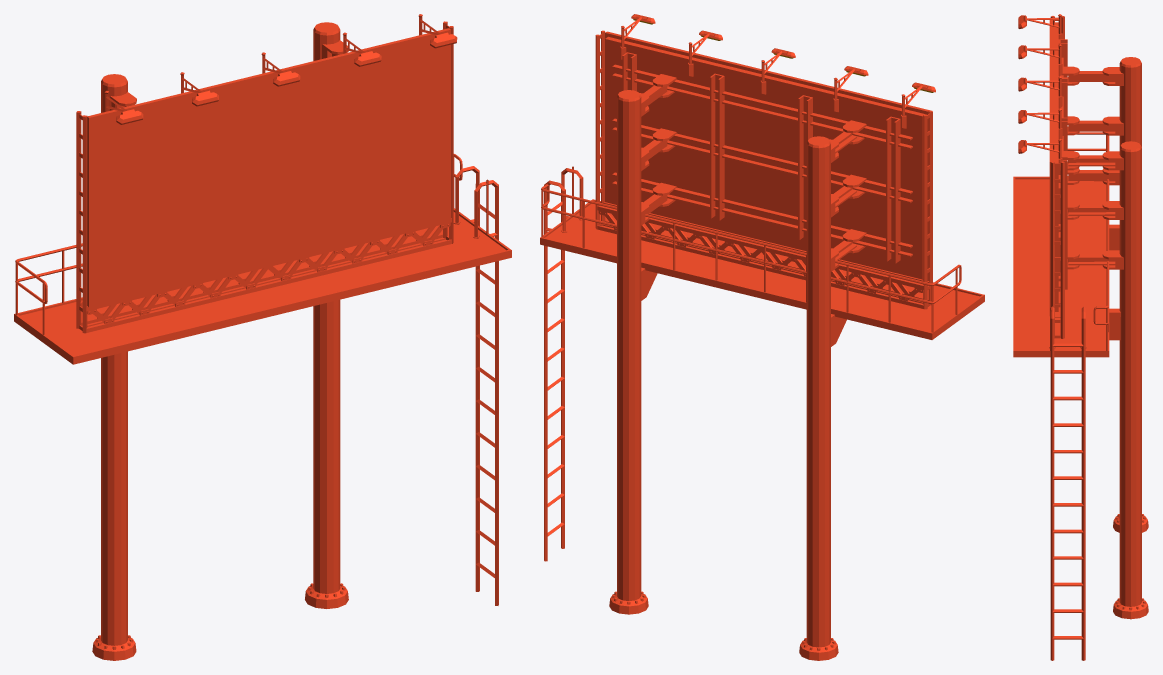
Rendered from SM_Billboard_E_City.fbx.
3 renders of one model, left to right at view 1: azimuth 30°, elevation 25°; view 2: azimuth 150°, elevation 25°; view 3: azimuth 270°, elevation 25°, orthographic. The views are drawn at different scales.
Visible parts, largest first — view 1: SM_Billboard_E_City; view 2: SM_Billboard_E_City; view 3: SM_Billboard_E_City.
Boxes of the visible parts, box(x1,y1,x2,y2) form: SM_Billboard_E_City: box(14, 14, 511, 660); SM_Billboard_E_City: box(540, 14, 984, 660); SM_Billboard_E_City: box(1013, 14, 1148, 660).
Size of the model in its own units: 6.23 by 7.99 by 1.99.
